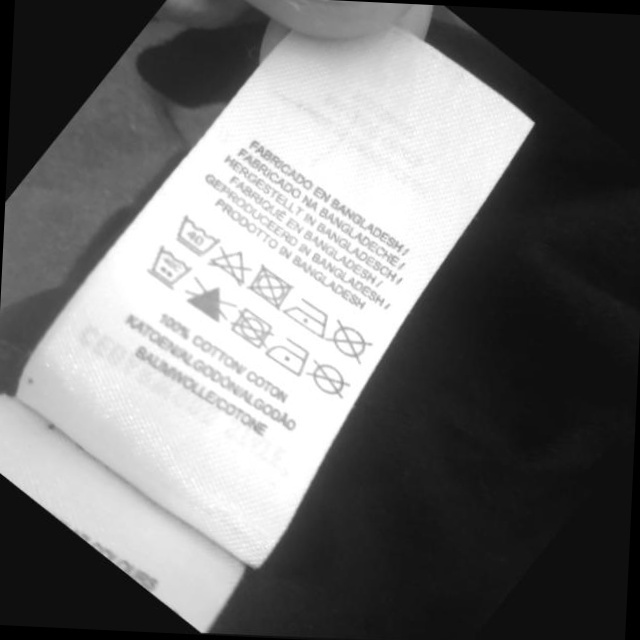40C: (177, 213, 224, 258), (147, 245, 195, 288)
DN_bleach: (184, 278, 238, 325), (208, 248, 251, 285)
DN_dry_clean: (303, 358, 359, 402), (325, 319, 377, 363)
DN_tumble_dry: (248, 264, 296, 311), (234, 306, 279, 351)
iron_low: (281, 296, 334, 337), (266, 335, 313, 379)
